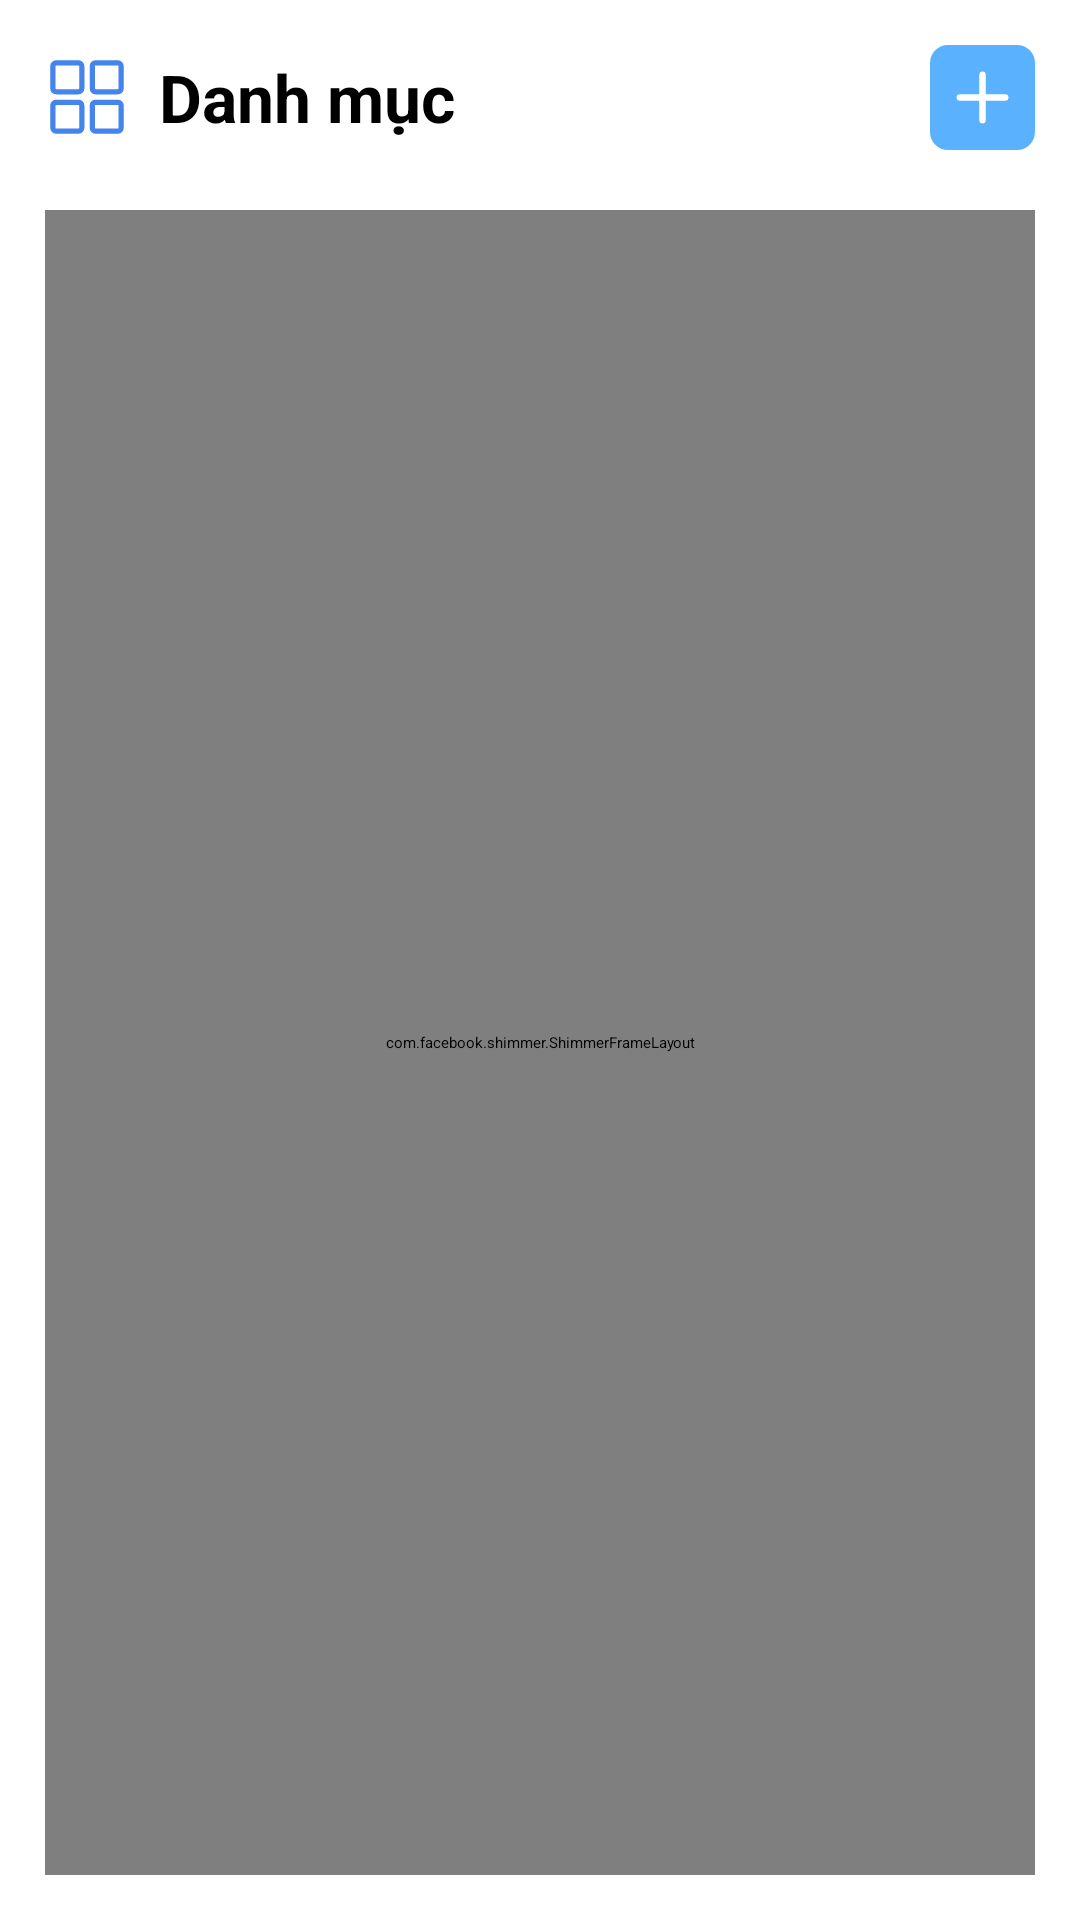

Named icons in this screenshot (1080px x 1920px) and their bounding boxes, (x1, y1, x2, y2):
add: (930, 45, 1035, 150)
grid: (50, 60, 124, 134)
